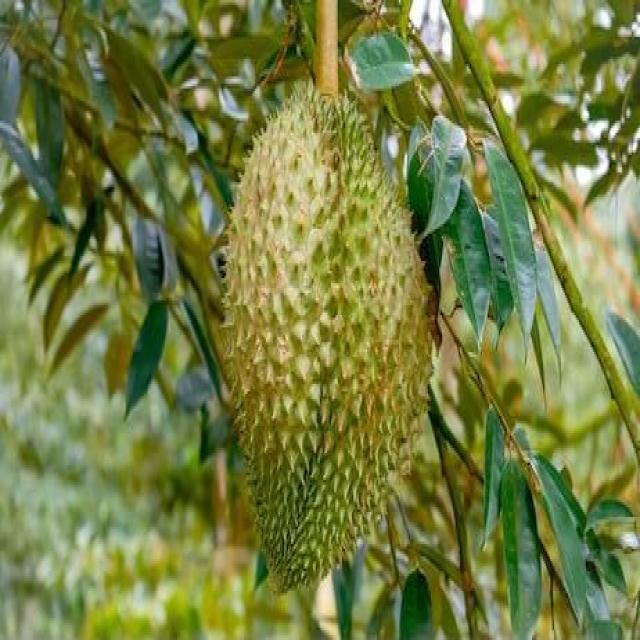immature: (225, 81, 434, 596)
